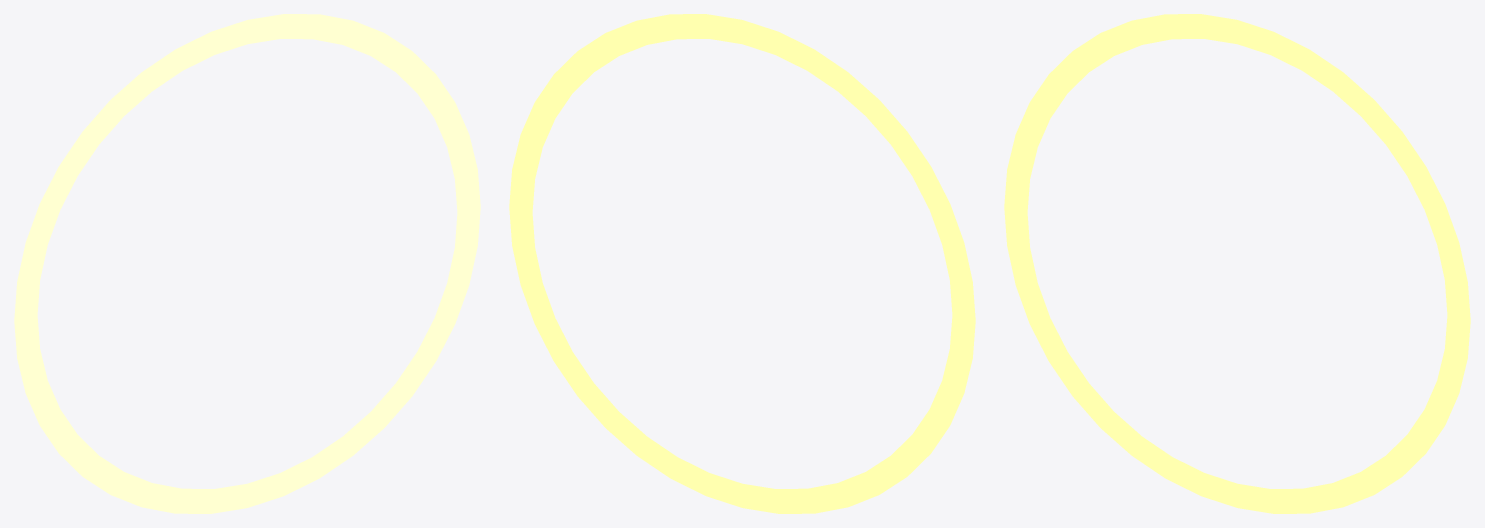
File: shockwave.glb
The picture shows the model from 3 angles, left to right: view 1: azimuth 30°, elevation 25°; view 2: azimuth 150°, elevation 25°; view 3: azimuth 330°, elevation 25°; orthographic projection.
Parts seen in each view (by area): view 1: shockwave; view 2: shockwave; view 3: shockwave.
Boxes of the visible parts, x1,y1,x2,y2 form: shockwave: [14, 14, 480, 513]; shockwave: [509, 14, 975, 513]; shockwave: [1004, 14, 1470, 513].
Size of the model in its own units: 2 by 2 by 0.
